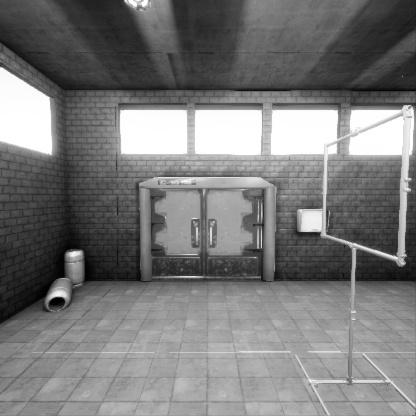gate: (322, 157, 415, 317)
